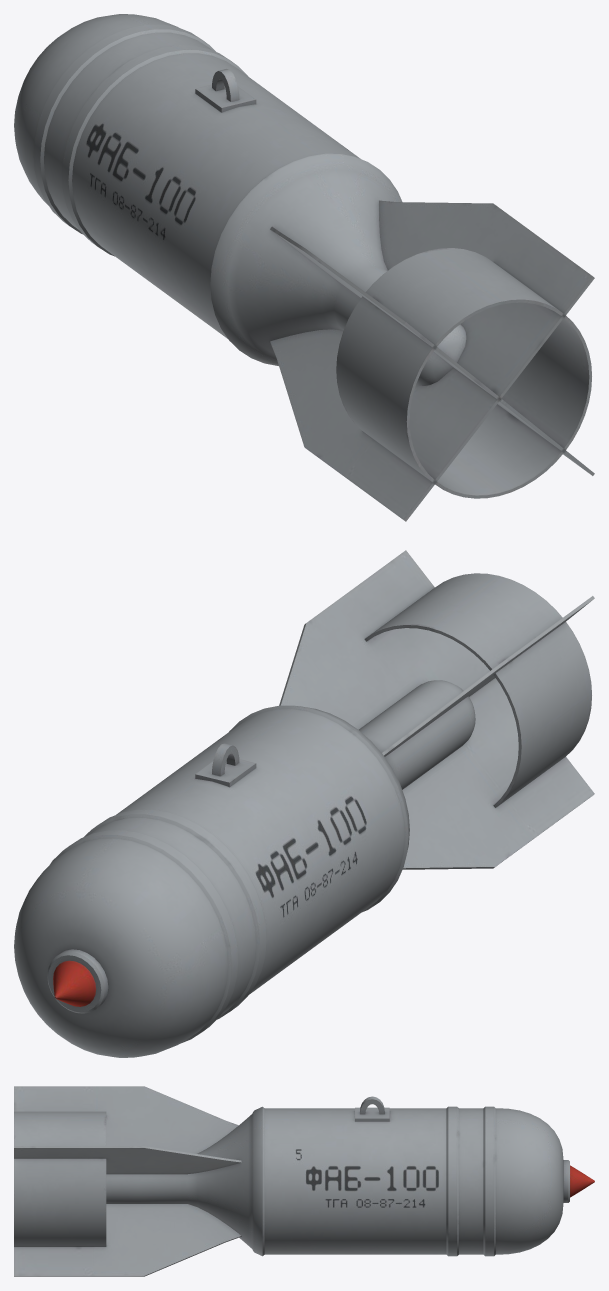
The model's file is fab100.glb.
The picture shows the model from 3 angles, top to bottom: view 1: azimuth 30°, elevation 25°; view 2: azimuth 150°, elevation 25°; view 3: azimuth 270°, elevation 25°; orthographic projection. The views are drawn at different scales.
Visible parts, largest first — view 1: FB_body, FB_tail, FB_lug; view 2: FB_body, FB_tail, FB_fuze, FB_lug; view 3: FB_body, FB_tail, FB_fuze, FB_lug.
Part boxes in pixels (left/top/right/bottom): FB_body: left=14, top=14, right=466, bottom=385; FB_tail: left=270, top=200, right=594, bottom=521; FB_lug: left=195, top=69, right=256, bottom=112; FB_body: left=14, top=680, right=475, bottom=1057; FB_tail: left=279, top=550, right=594, bottom=869; FB_fuze: left=47, top=949, right=108, bottom=1013; FB_lug: left=195, top=743, right=256, bottom=787; FB_body: left=106, top=1106, right=563, bottom=1256; FB_tail: left=14, top=1086, right=241, bottom=1276; FB_fuze: left=563, top=1160, right=594, bottom=1202; FB_lug: left=355, top=1096, right=389, bottom=1121.
Size of the model in its own units: 0.276 by 0.308 by 1.07.
3 materials, 3 textured.
